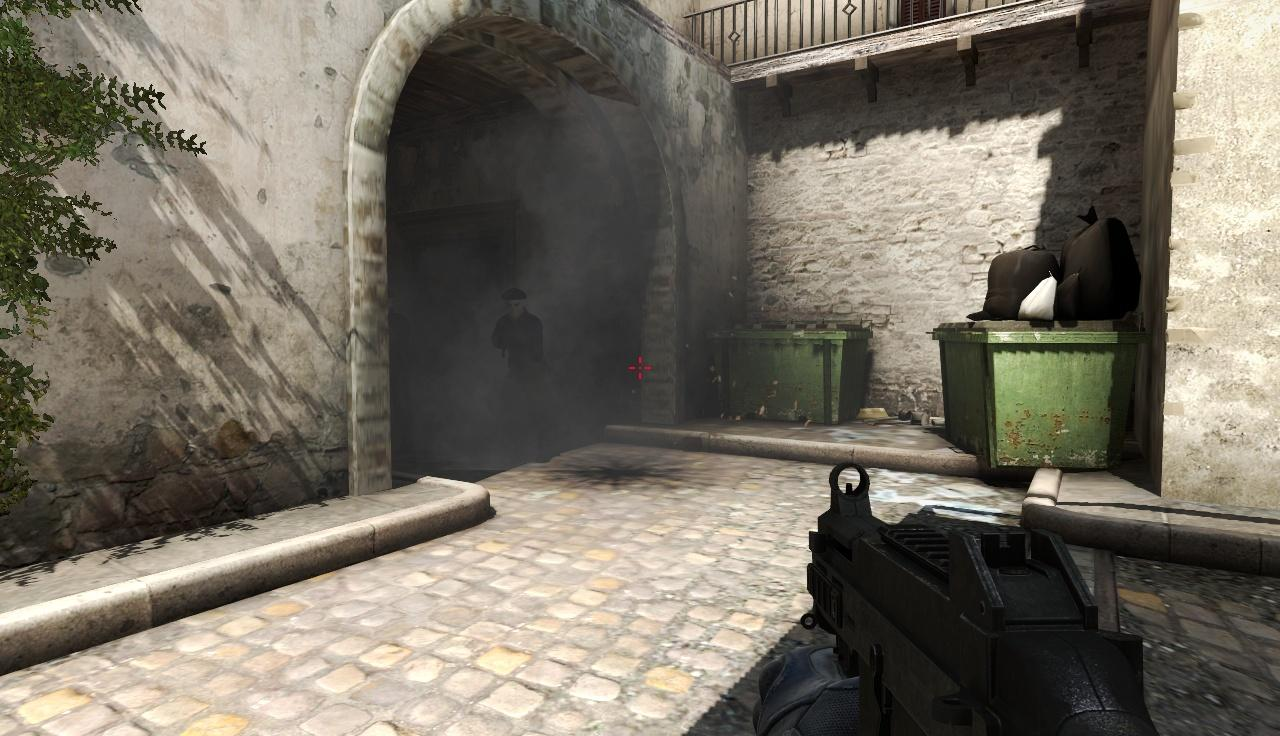rifle: (800, 461, 1170, 736)
tt: (497, 288, 544, 411)
tthead: (501, 288, 527, 318)
